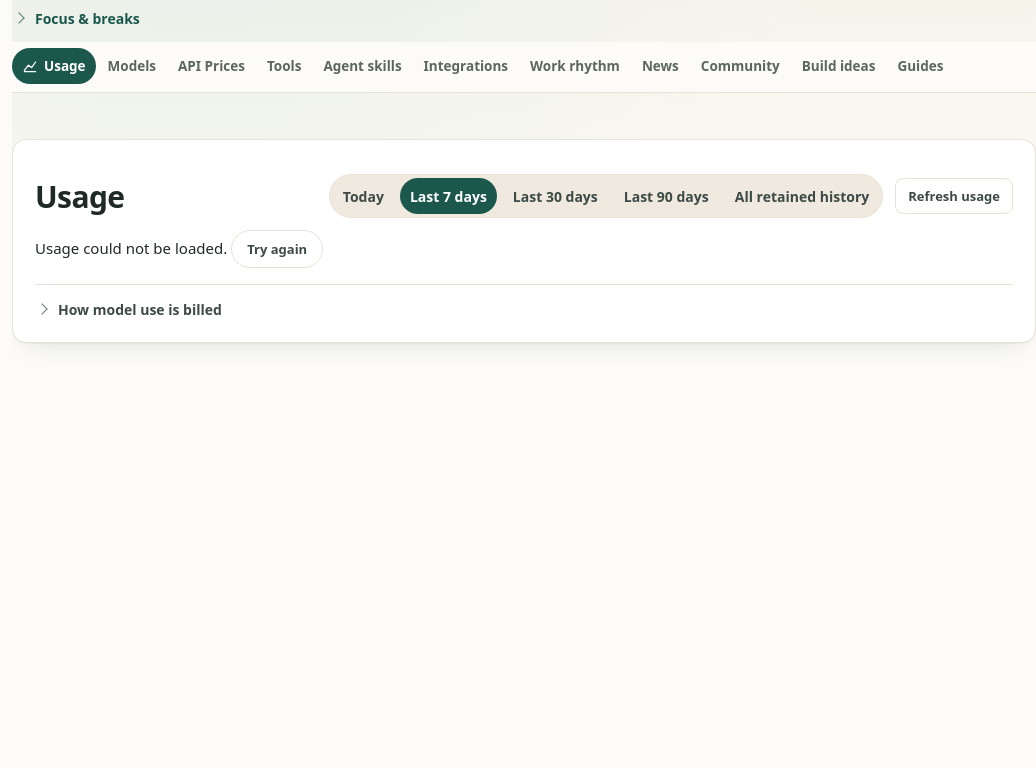
Test: opens on Usage with every category directly accessible in one menu
This screenshot has width=1036, height=768.
Check: the number of navigation bars is 1, box left=12, top=42, right=1035, bottom=93
Click the link "News" at coordinates (660, 66), box left=642, top=57, right=679, bottom=75
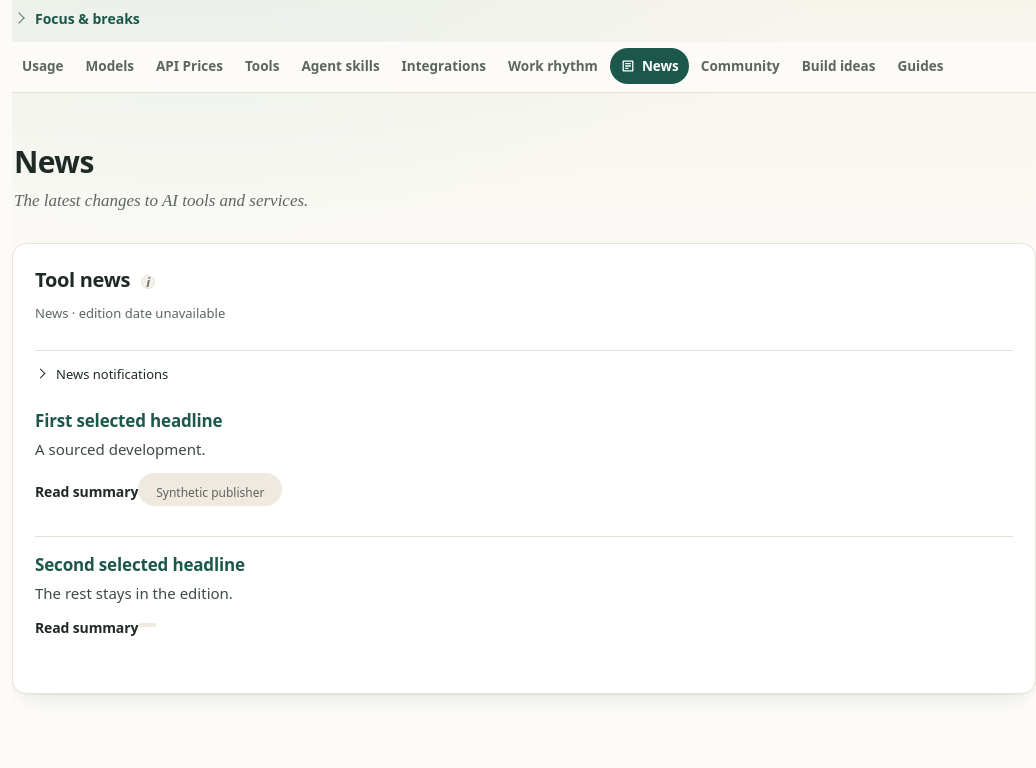
Check: the heading "News" is shown, box left=14, top=141, right=94, bottom=182
